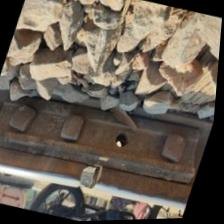person: (60, 151, 117, 201)
